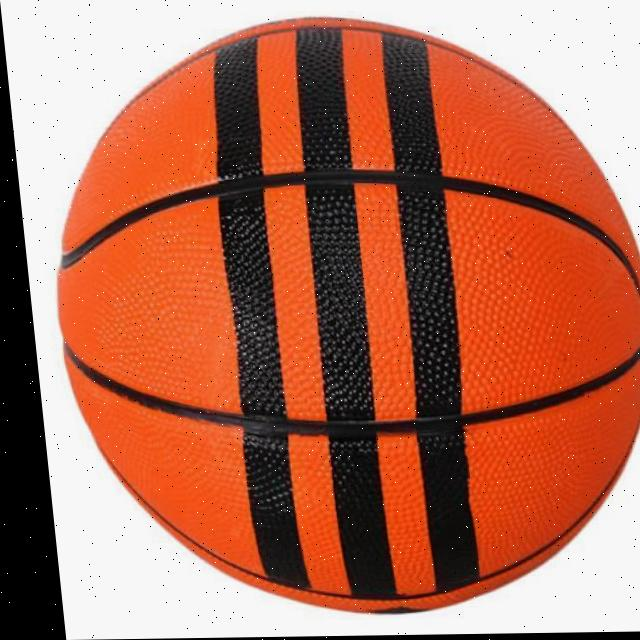Basketball: (29, 10, 640, 617)
